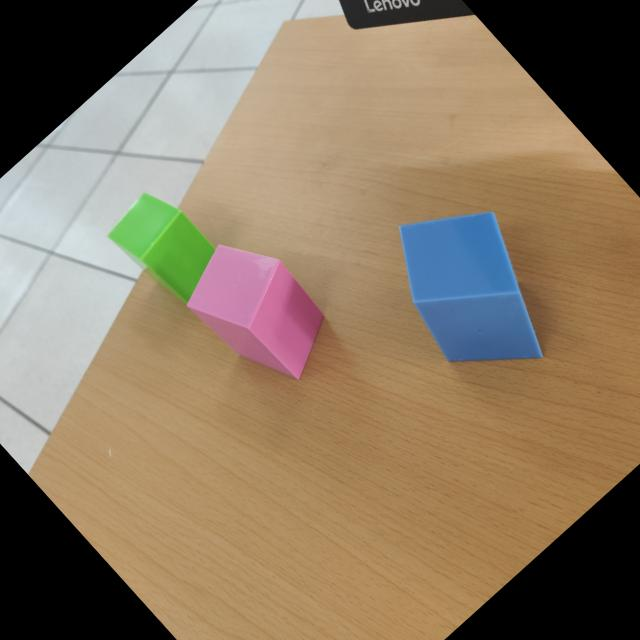blue: (400, 207, 544, 364)
green: (107, 191, 217, 303)
pink: (184, 244, 323, 380)
